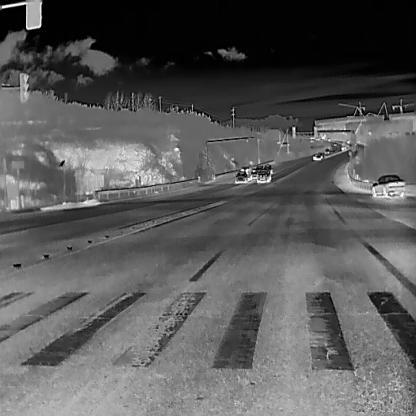car: (370, 173, 406, 199), (256, 167, 270, 182), (238, 166, 253, 180), (234, 170, 248, 184), (250, 167, 258, 179), (264, 163, 272, 173), (312, 152, 321, 160), (340, 142, 347, 151), (317, 151, 323, 159), (324, 147, 330, 154), (330, 149, 334, 154), (346, 139, 350, 144), (326, 137, 330, 142), (332, 142, 336, 146)
